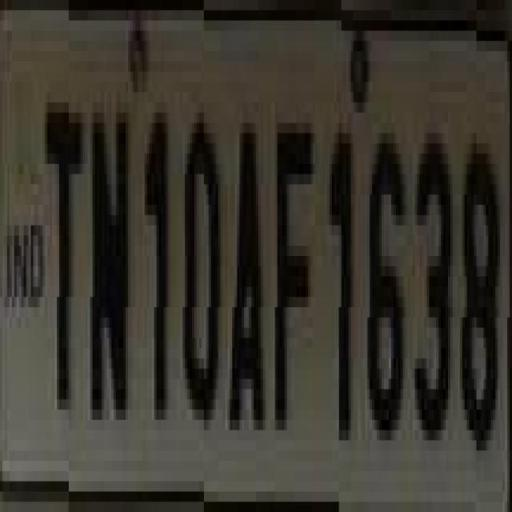number plate: (0, 10, 486, 512)
